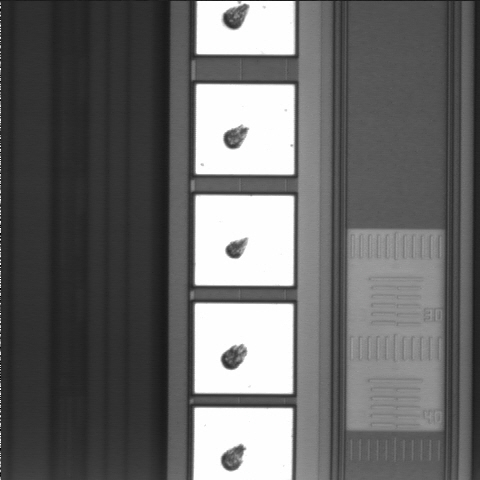pad: (195, 195, 294, 286), (196, 84, 294, 175), (195, 303, 293, 394)
